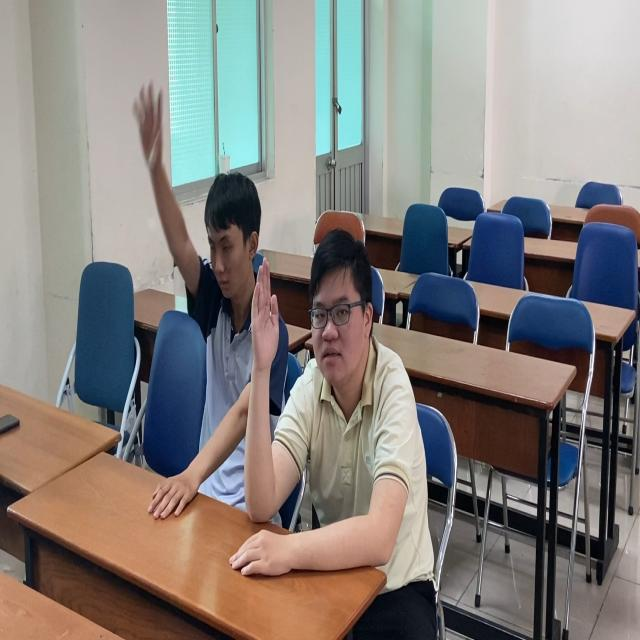raise_hand: (248, 225, 411, 567), (129, 70, 263, 423)
